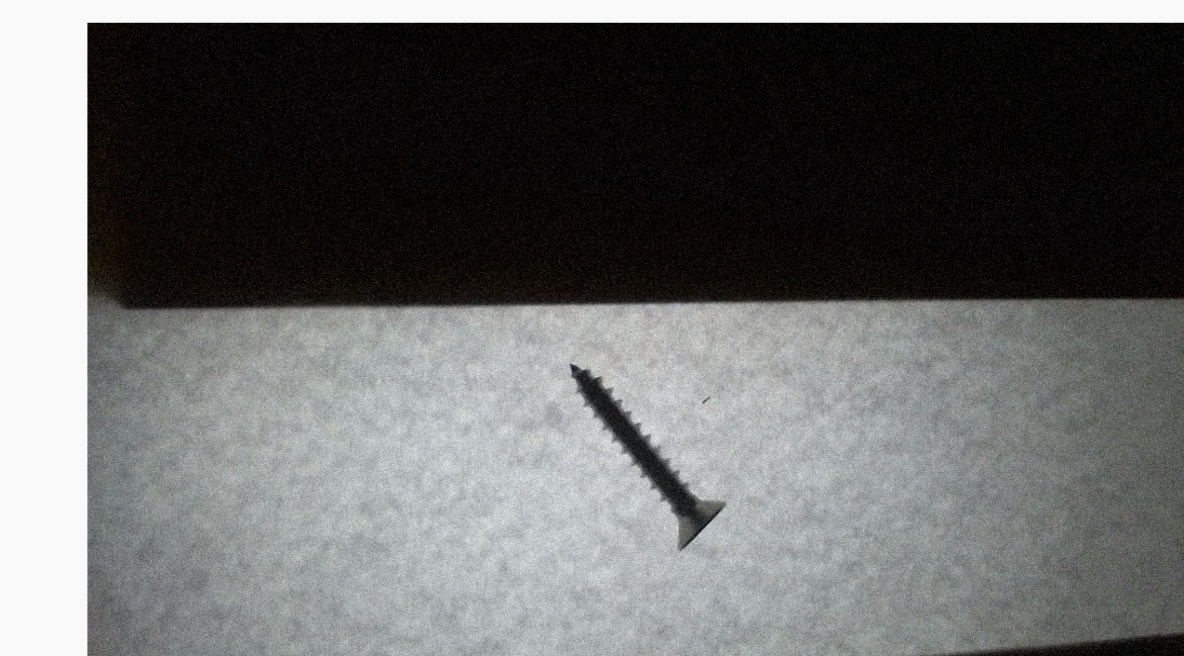S001: (483, 335, 759, 565)
